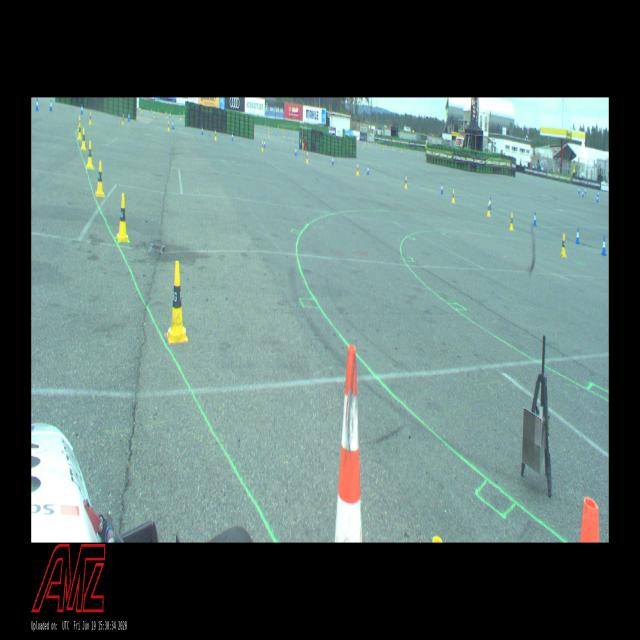blue_cone: (601, 237, 606, 256), (576, 228, 580, 244), (489, 197, 492, 210), (440, 183, 443, 194), (534, 212, 536, 225), (36, 98, 38, 111), (50, 100, 52, 110), (367, 164, 369, 174), (81, 104, 83, 114), (128, 112, 130, 121), (232, 132, 234, 141), (295, 147, 297, 155), (172, 120, 174, 128), (201, 126, 203, 134), (582, 190, 584, 197), (578, 187, 580, 194), (596, 195, 598, 202), (597, 191, 599, 196), (264, 139, 265, 148), (332, 156, 333, 164), (585, 188, 586, 193)
large_orange_cone: (334, 345, 363, 543)
yellow_cone: (166, 260, 188, 343), (116, 193, 129, 241), (96, 160, 104, 196), (87, 142, 93, 168), (560, 234, 566, 257), (80, 129, 86, 149), (509, 213, 514, 230), (78, 123, 81, 139), (487, 202, 490, 216), (404, 176, 407, 189), (89, 112, 92, 125), (214, 130, 217, 140), (452, 190, 454, 202), (78, 116, 80, 128), (356, 164, 358, 175), (122, 114, 124, 124), (168, 121, 170, 131), (306, 153, 308, 163), (262, 142, 263, 151), (154, 112, 155, 118), (255, 130, 256, 135)
